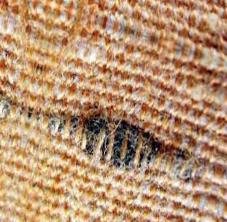slub: (21, 106, 208, 179)
